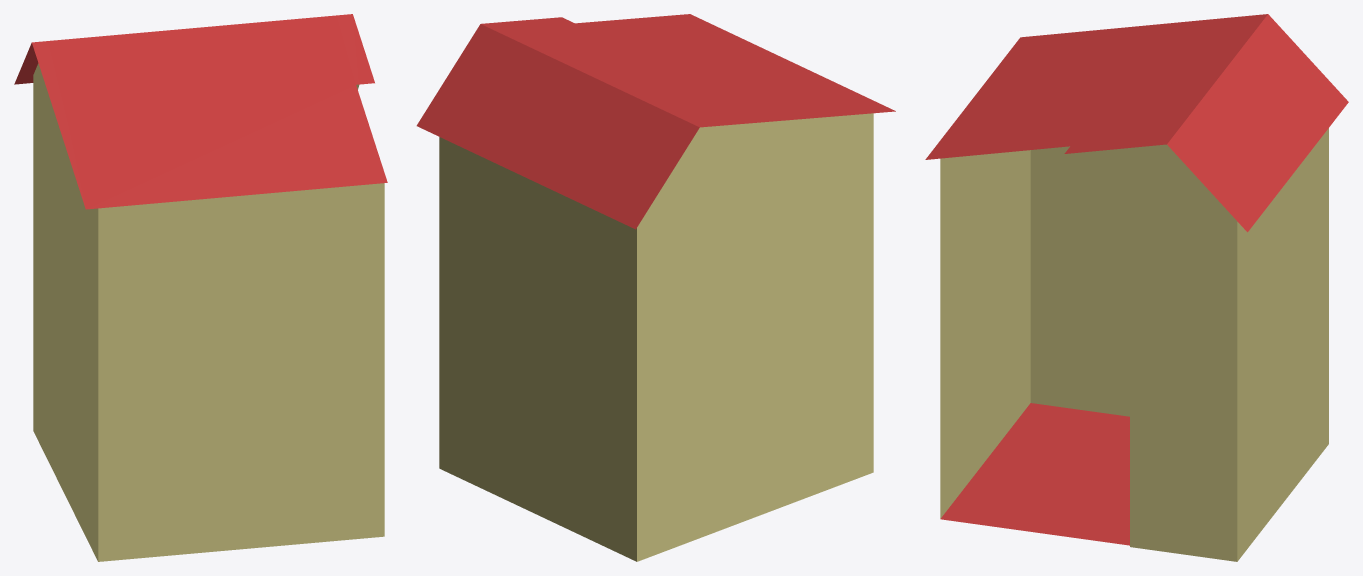
3 renders of one model, left to right at view 1: azimuth 30°, elevation 25°; view 2: azimuth 150°, elevation 25°; view 3: azimuth 270°, elevation 25°, orthographic.
Size of the model in its own units: 6.52 by 6.63 by 7.16.
